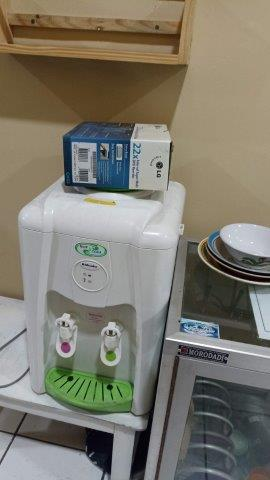kardus: (63, 122, 172, 190)
